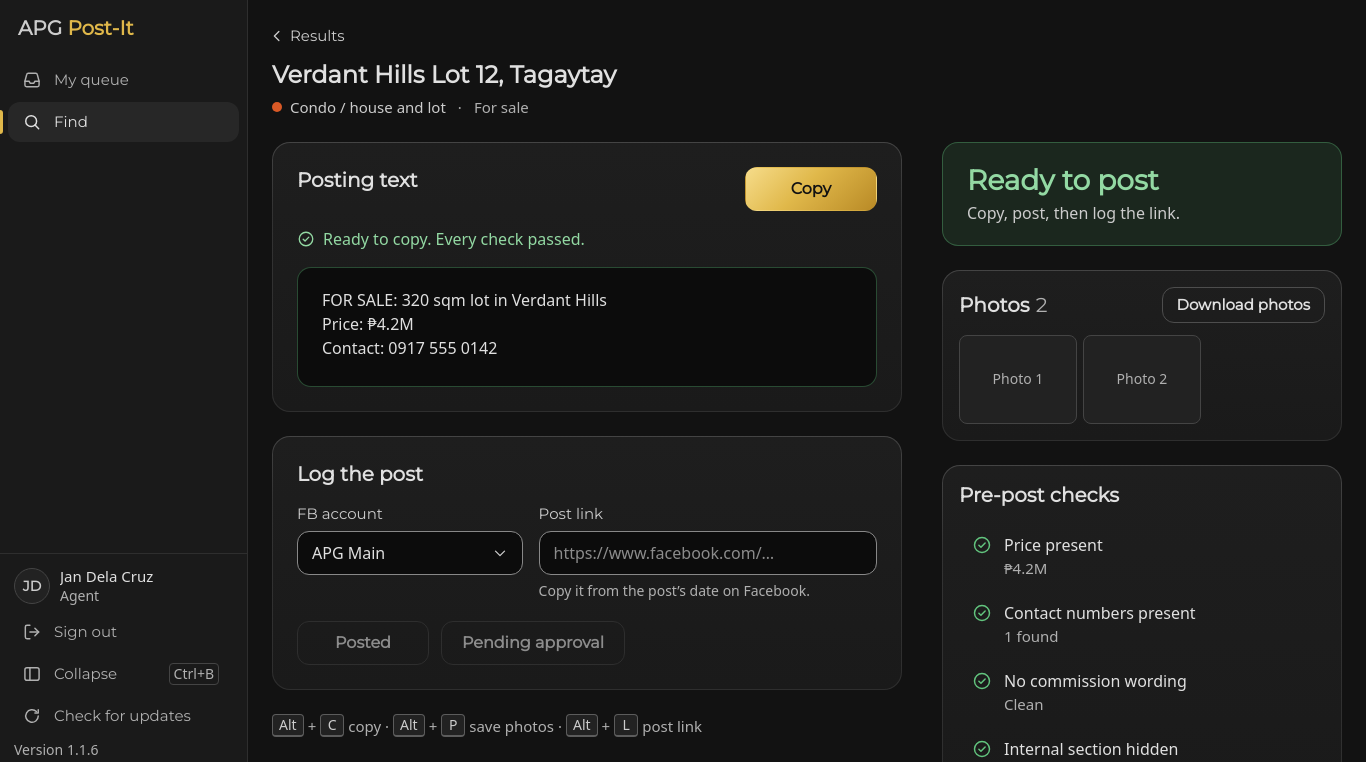
the log step › shows the server's sentence and the next allowed date when the cooldown refuses it
The width and height of the screenshot is (1366, 762).
Step 1. Type "https://www.facebook.com/groups/apgmain/posts/1029384801/" into the field labelled "Post link" → (708, 553), box [539,531,877,575]
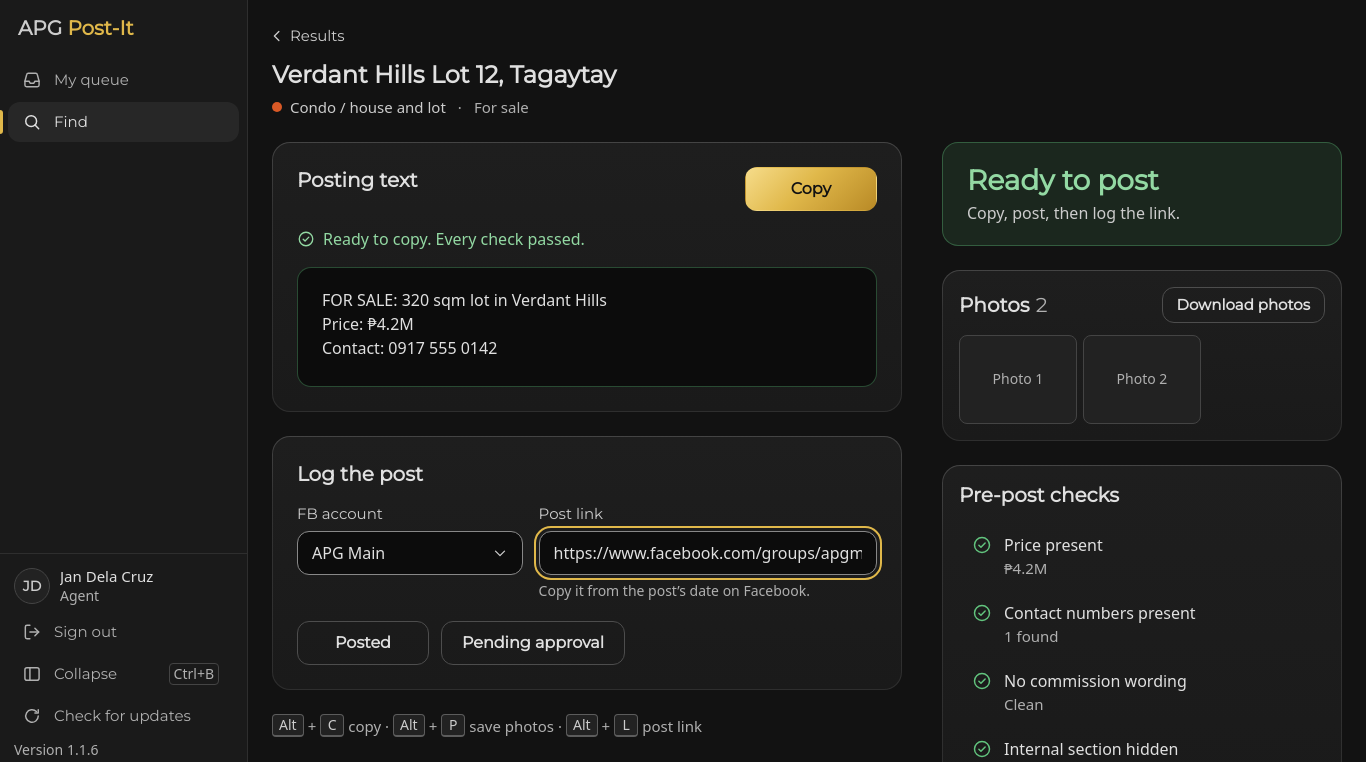
Step 2. Click the button "Posted" → (363, 643), box [297,621,429,665]
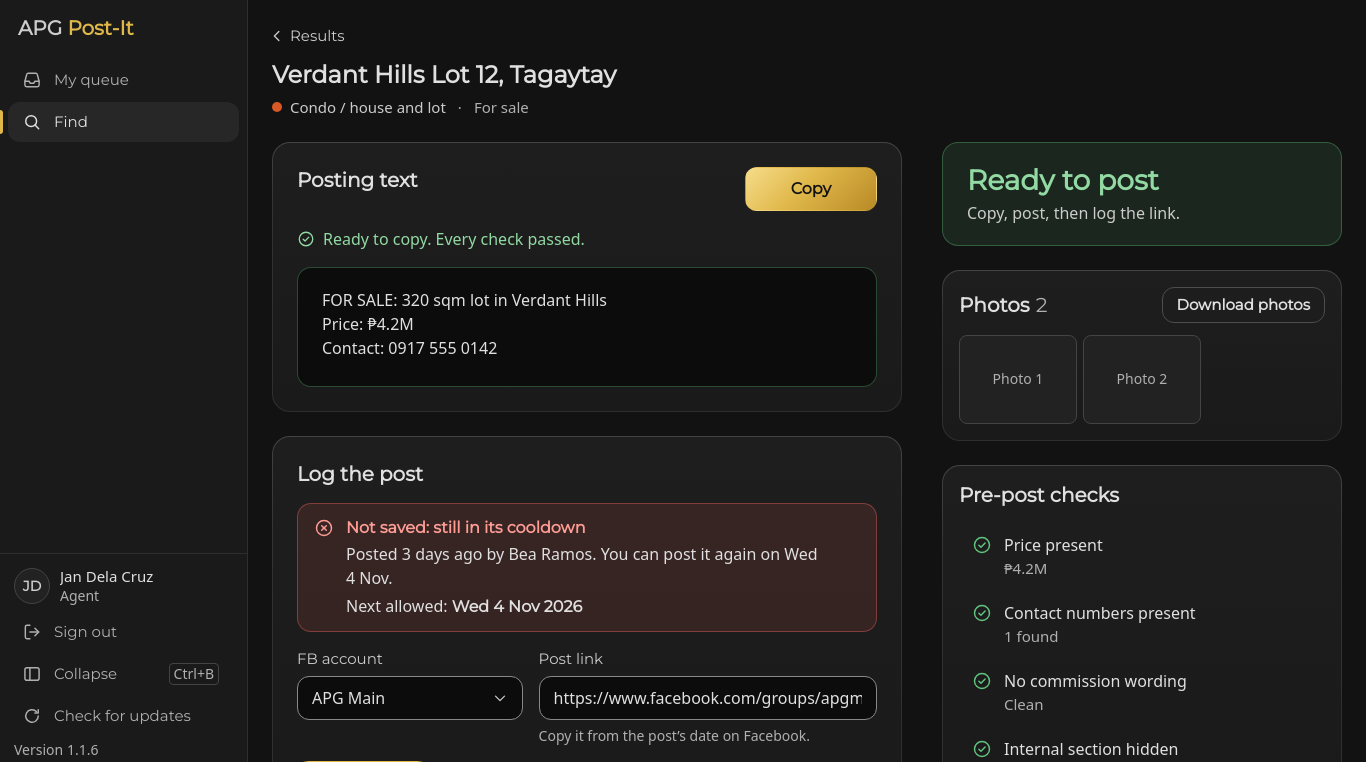
Check: the message that starts with "Not saved: still in its cooldown" is shown, box [346,518,586,537]
Check: the message that starts with "Not saved: still in its cooldown" shows "Posted 3 days ago by Bea Ramos. You can post it again on Wed 4 Nov.", box [346,543,818,589]
Check: the message that starts with "Not saved: still in its cooldown" shows "Next allowed: Wed 4 Nov 2026", box [297,503,877,632]
